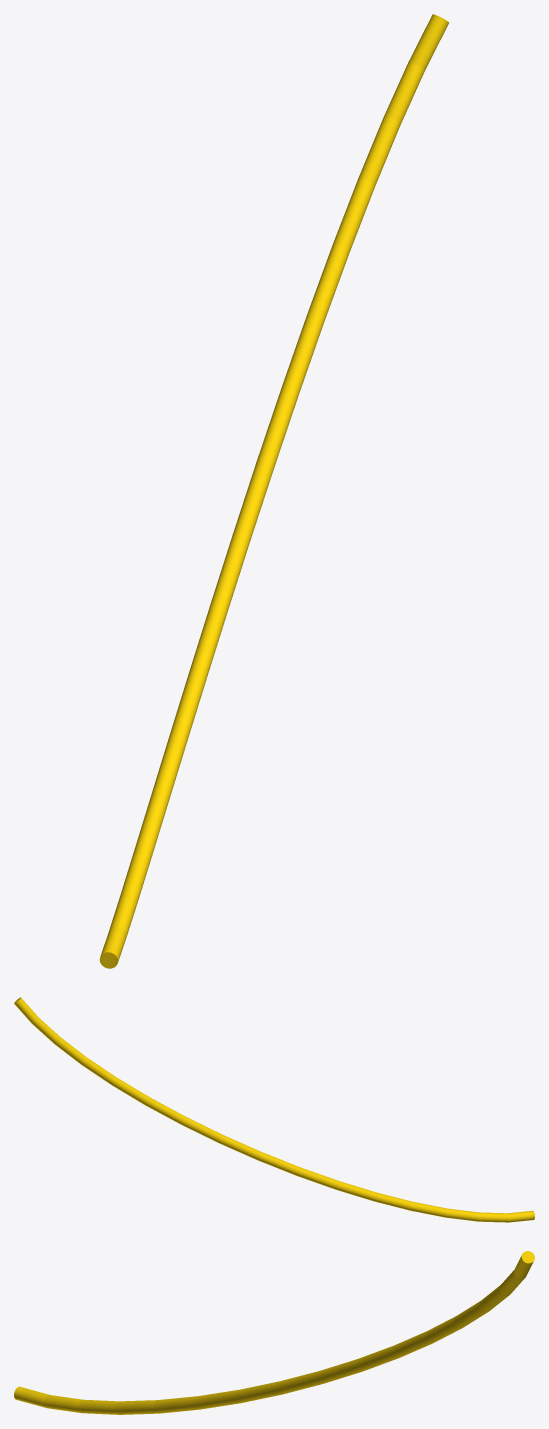
File: Event_420604493_track_2.fbx
The picture shows the model from 3 angles, top to bottom: view 1: azimuth 30°, elevation 25°; view 2: azimuth 150°, elevation 25°; view 3: azimuth 270°, elevation 25°; orthographic projection. The views are drawn at different scales.
Parts seen in each view (by area): view 1: Model; view 2: Model; view 3: Model.
Part boxes in pixels (left/top/right/bottom): Model: left=99, top=14, right=448, bottom=968; Model: left=14, top=997, right=534, bottom=1222; Model: left=14, top=1251, right=534, bottom=1414.
Size of the model in its own units: 1.71 by 1.26 by 1.53.
